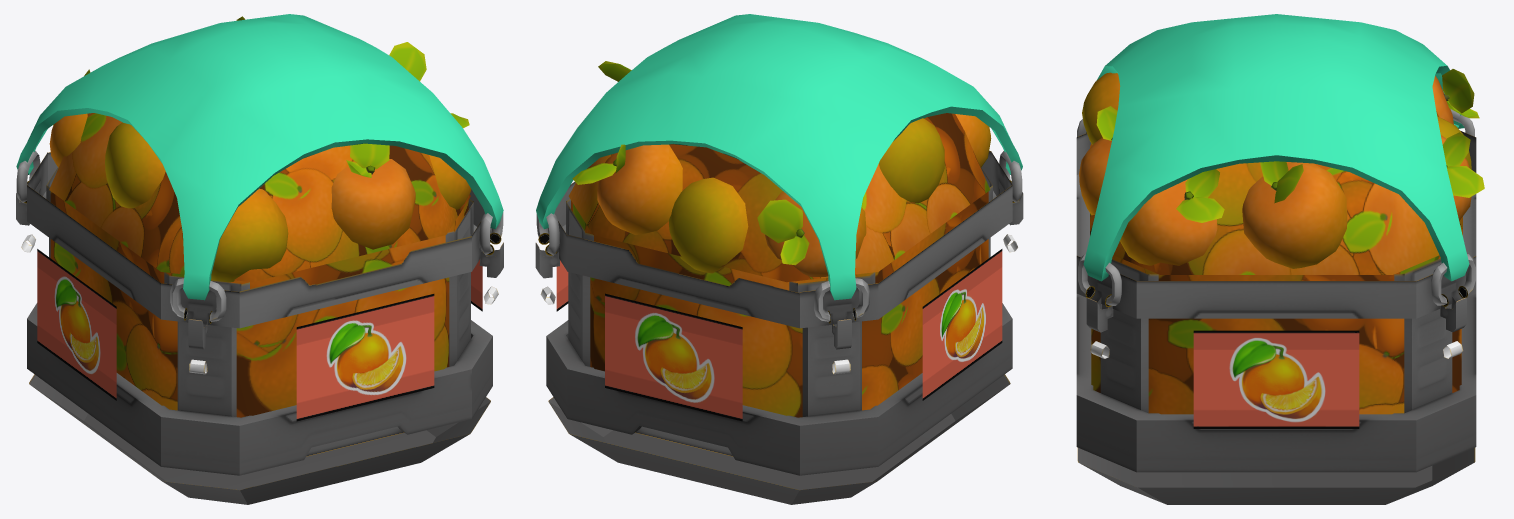
File: obj_containers_orangecrate.fbx
3 renders of one model, left to right at view 1: azimuth 30°, elevation 25°; view 2: azimuth 150°, elevation 25°; view 3: azimuth 270°, elevation 25°, orthographic. The views are drawn at different scales.
Parts seen in each view (by area): view 1: obj_containers_orangecrate; view 2: obj_containers_orangecrate; view 3: obj_containers_orangecrate.
Part boxes in pixels (x1,y1,x2,y2): obj_containers_orangecrate: (16, 14, 503, 504); obj_containers_orangecrate: (535, 14, 1023, 504); obj_containers_orangecrate: (1076, 14, 1484, 504).
Size of the model in its own units: 7.82 by 7.82 by 7.82.
